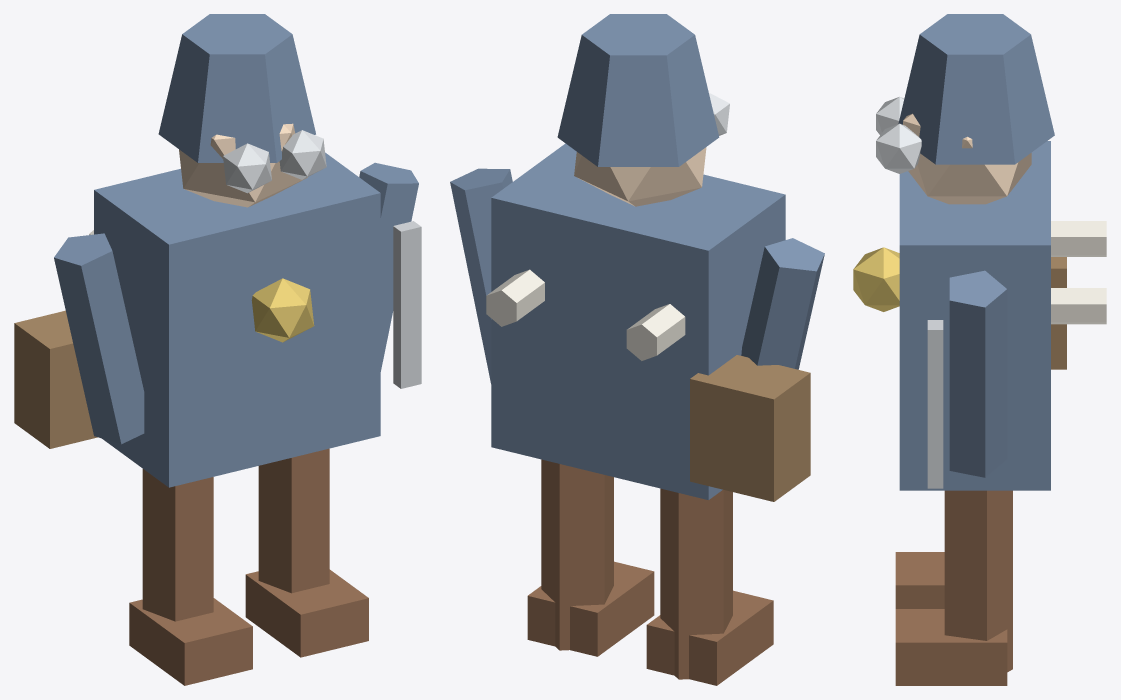
The model's file is npc_apprentice.glb.
The picture shows the model from 3 angles, left to right: view 1: azimuth 30°, elevation 25°; view 2: azimuth 150°, elevation 25°; view 3: azimuth 270°, elevation 25°; orthographic projection. The views are drawn at different scales.
Visible parts, largest first — view 1: torso.007, cap.003, arm_0.007, leg_0.008, leg_1.008, satchel, boot_0.007, boot_1.007, wrench, arm_1.007, head.007, gear.001 (+2 smaller); view 2: torso.007, cap.003, satchel, leg_0.008, leg_1.008, arm_0.007, boot_0.007, boot_1.007, arm_1.007, head.007, scroll_0, scroll_1; view 3: torso.007, cap.003, arm_1.007, leg_1.008, boot_1.007, head.007, wrench, boot_0.007, gear.001, scroll_1, scroll_0, lens_1 (+2 smaller).
Boxes of the visible parts, x1,y1,x2,y2 form: torso.007: [94, 152, 380, 487]; cap.003: [158, 14, 315, 162]; arm_0.007: [54, 233, 144, 444]; leg_0.008: [142, 469, 213, 621]; leg_1.008: [258, 448, 329, 593]; satchel: [14, 310, 97, 448]; boot_0.007: [129, 598, 252, 685]; boot_1.007: [245, 569, 368, 657]; wrench: [393, 221, 421, 388]; arm_1.007: [359, 162, 418, 371]; head.007: [179, 123, 307, 207]; gear.001: [251, 278, 314, 342]; torso.007: [491, 143, 785, 499]; cap.003: [557, 14, 719, 166]; satchel: [690, 355, 810, 501]; leg_0.008: [660, 488, 732, 679]; leg_1.008: [541, 459, 613, 650]; arm_0.007: [741, 238, 824, 369]; boot_0.007: [646, 590, 773, 685]; boot_1.007: [527, 561, 654, 656]; arm_1.007: [450, 168, 512, 383]; head.007: [574, 147, 706, 206]; scroll_0: [626, 304, 685, 360]; scroll_1: [486, 269, 544, 326]; torso.007: [899, 141, 1050, 490]; cap.003: [898, 14, 1054, 164]; arm_1.007: [949, 270, 1007, 477]; leg_1.008: [944, 490, 1012, 672]; boot_1.007: [895, 609, 1007, 685]; head.007: [903, 113, 1031, 204]; wrench: [927, 320, 943, 488]; boot_0.007: [895, 552, 944, 608]; gear.001: [853, 247, 899, 311]; scroll_1: [1051, 288, 1106, 324]; scroll_0: [1051, 221, 1106, 256]; lens_1: [876, 123, 921, 173].
Size of the model in its own units: 1.05 by 1.68 by 0.6366.
